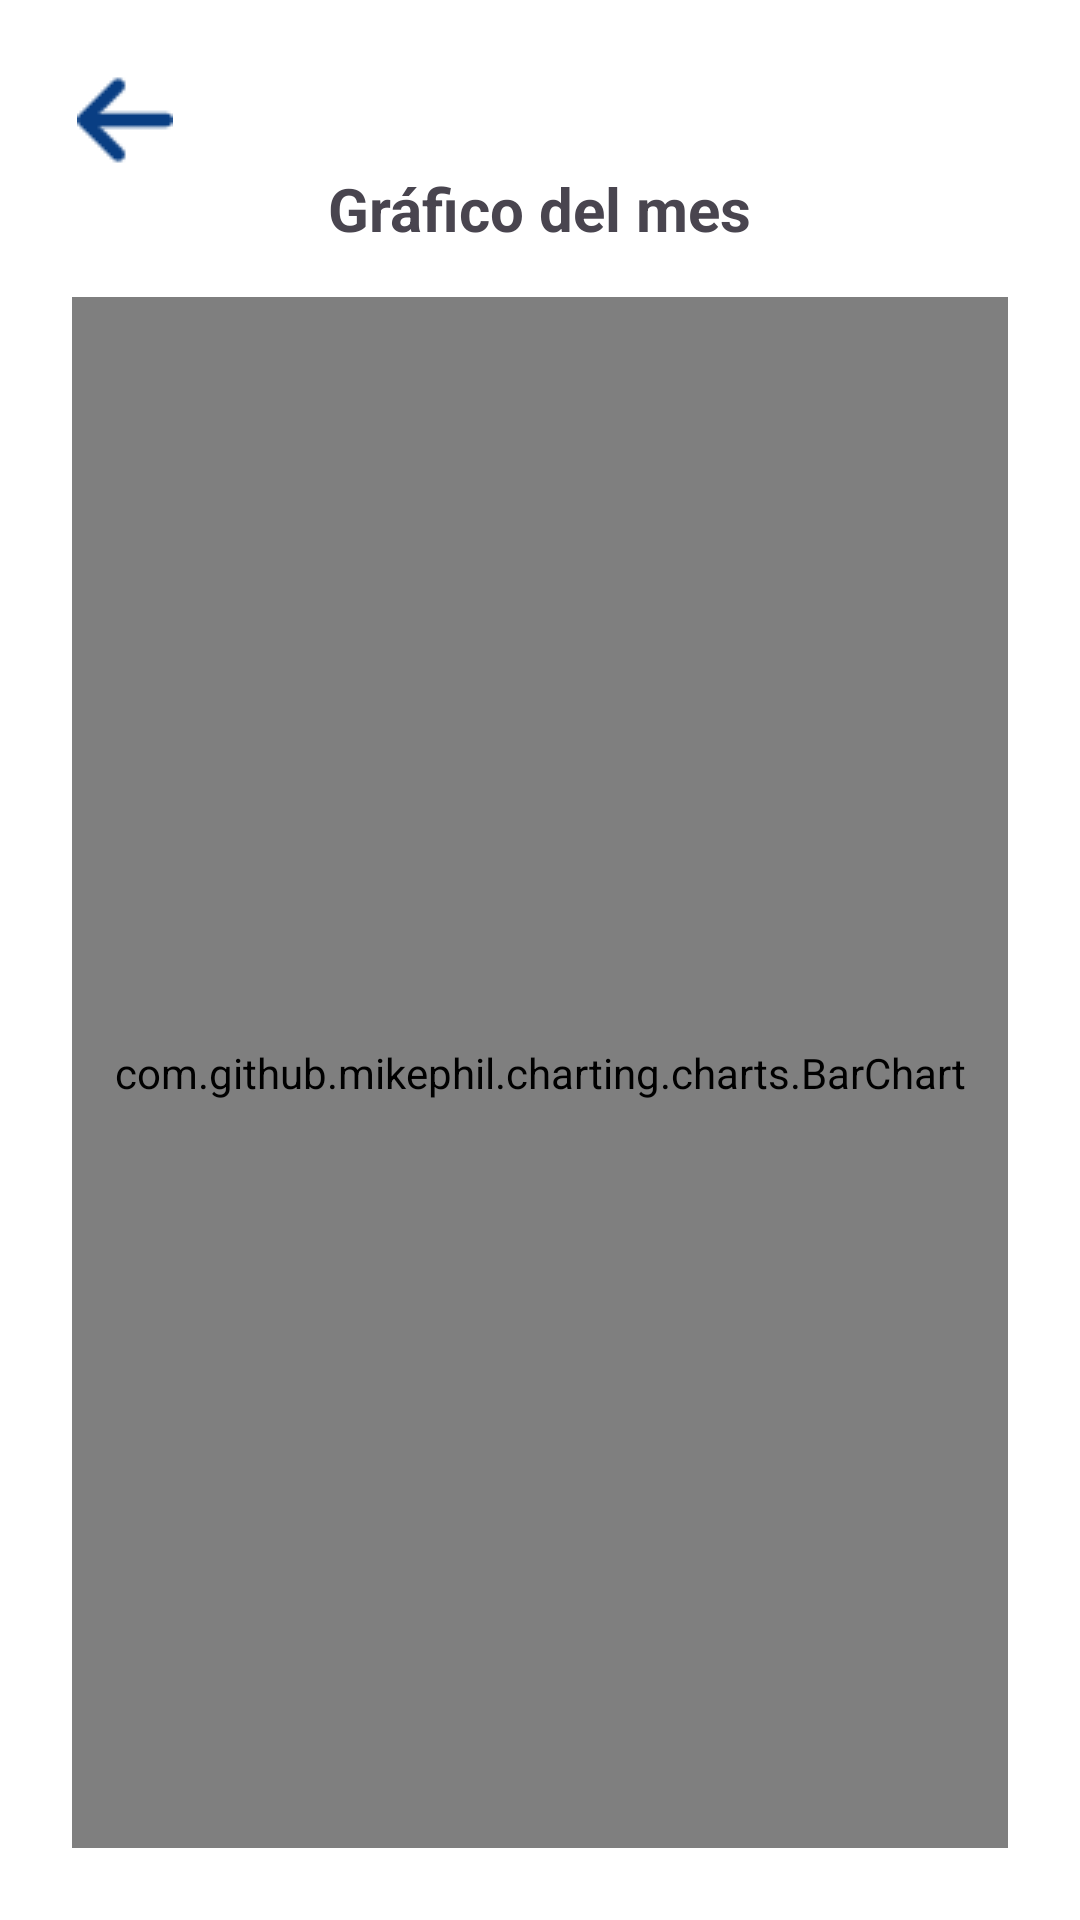

Locate icon controls on the screen. Image size 1080w x 1920h, boxes as (x1, y1, x2, y2).
Volver: (77, 77, 173, 163)
